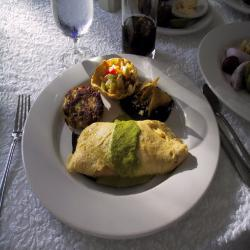omelette: (62, 116, 187, 182)
